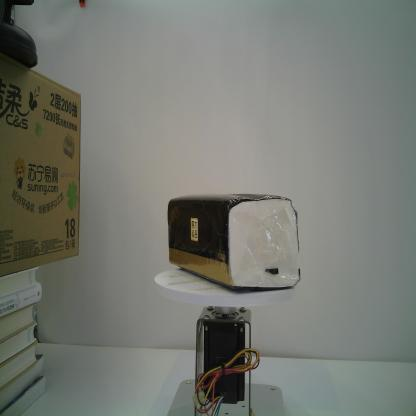Tissue: (166, 189, 303, 290)
